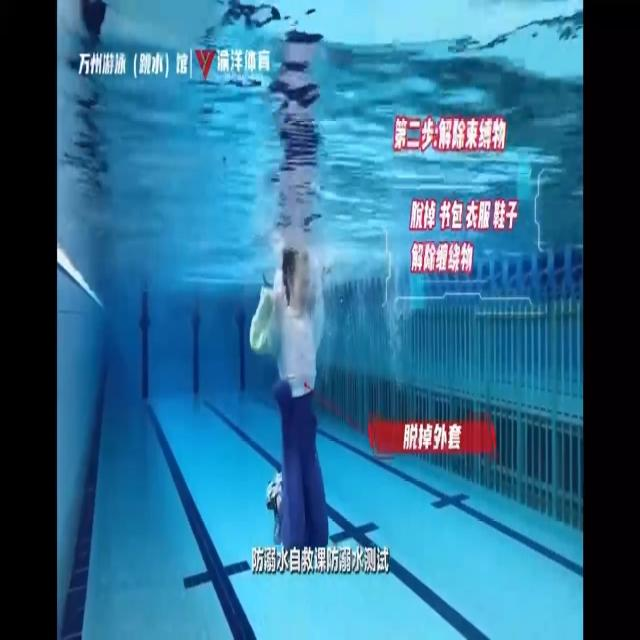Drowning: (250, 240, 330, 548)
